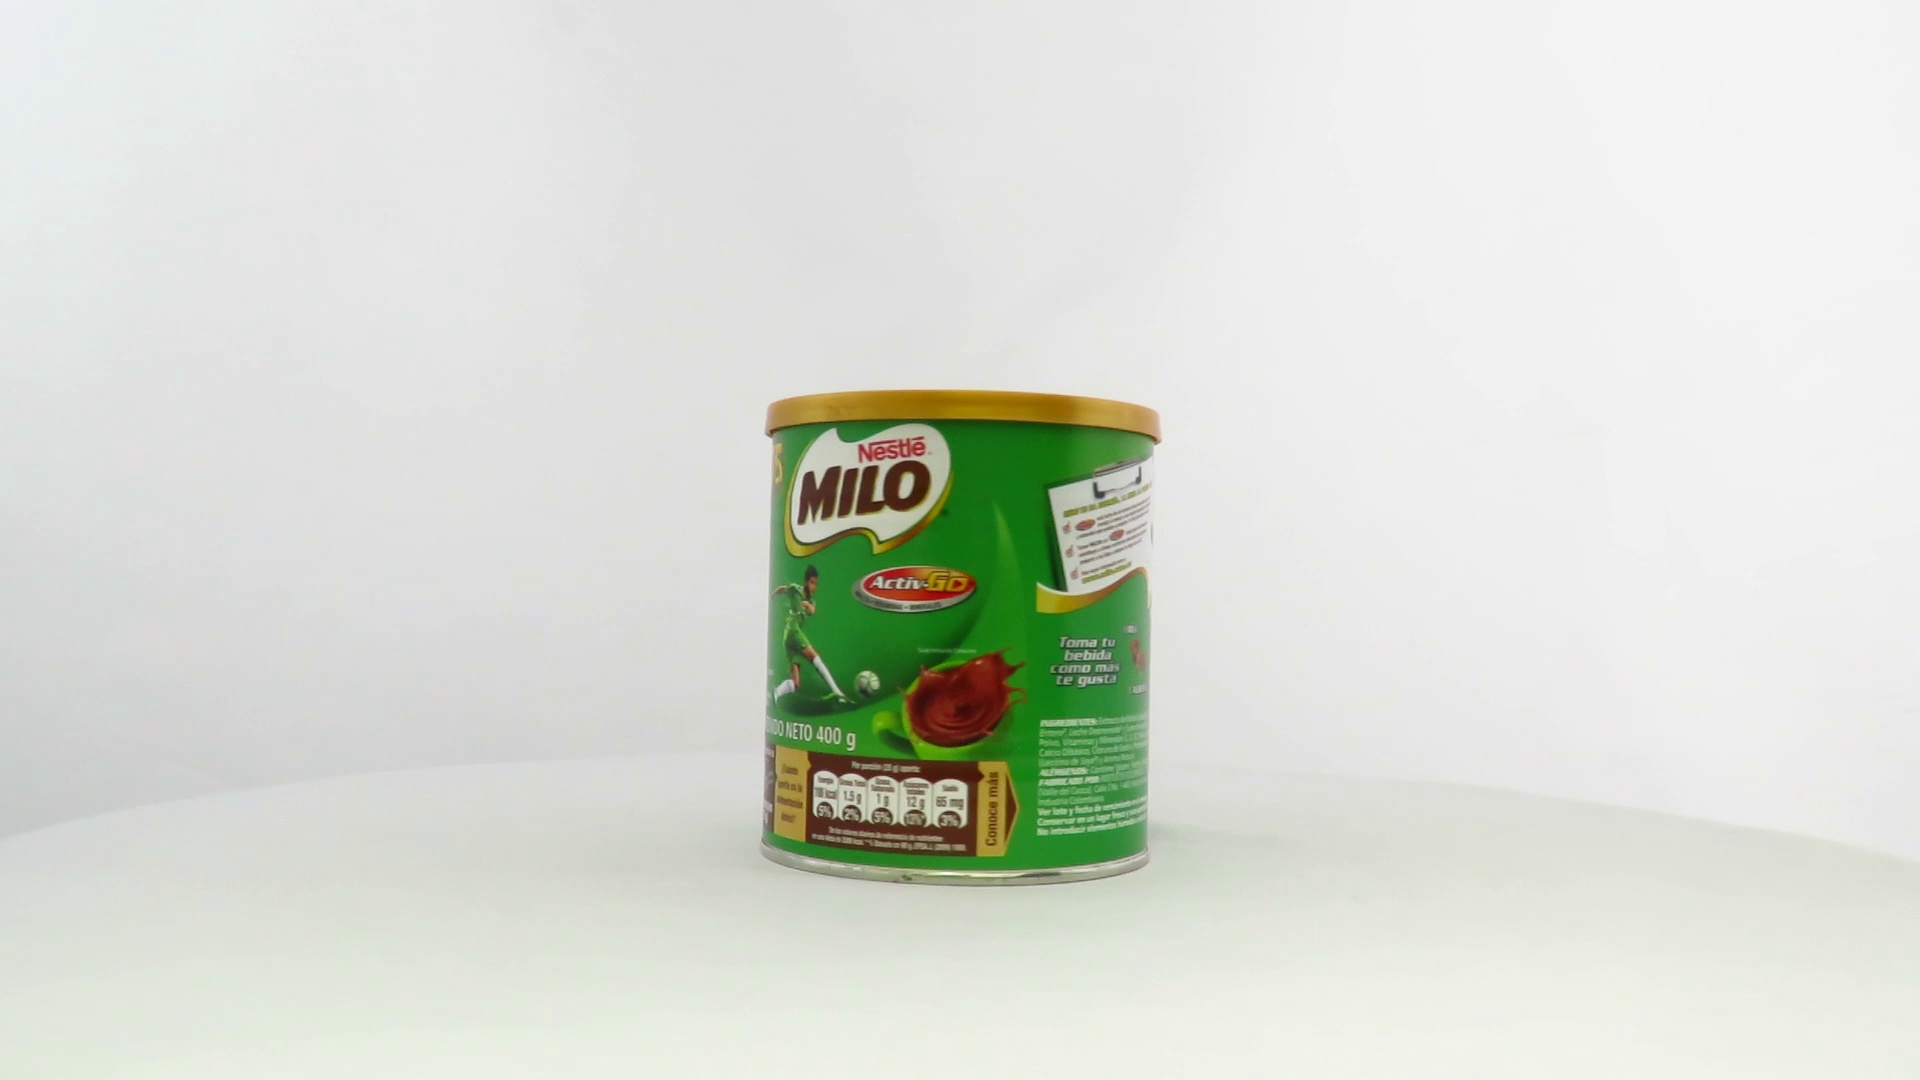COL0170203LAT40000: (753, 384, 1168, 893)
